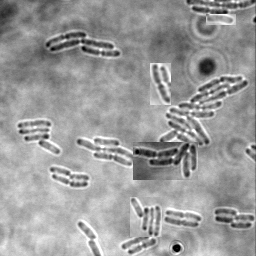Dividing: (150, 63, 171, 105), (52, 175, 89, 189), (128, 238, 157, 255), (166, 209, 202, 222), (164, 217, 200, 228), (192, 7, 229, 17)
Microcolony: (158, 76, 249, 147), (133, 142, 198, 180), (76, 137, 139, 168), (45, 32, 121, 57), (18, 120, 61, 155), (130, 197, 162, 237), (214, 208, 255, 229), (206, 14, 236, 25)
Rod: (121, 233, 150, 251), (78, 222, 99, 240), (50, 167, 72, 177), (69, 174, 90, 183)
